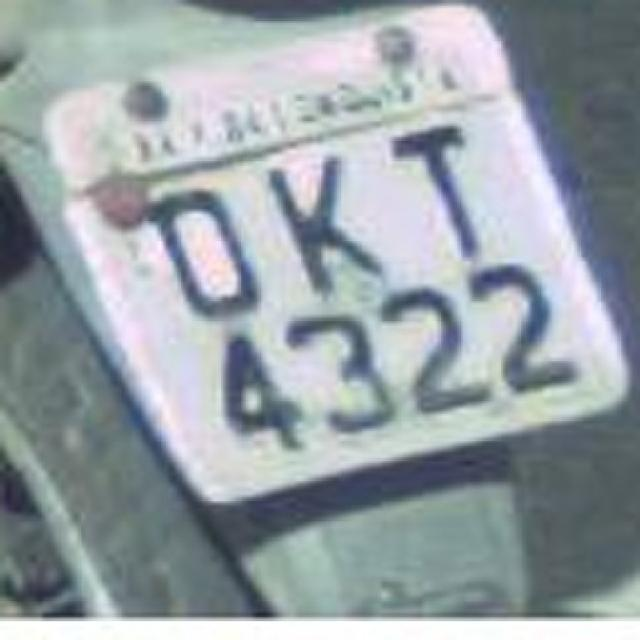2: (448, 232, 588, 396), (369, 265, 496, 420)
3: (276, 295, 409, 440)
4: (192, 312, 332, 468)
O: (132, 172, 276, 328)
T: (368, 120, 512, 248)
